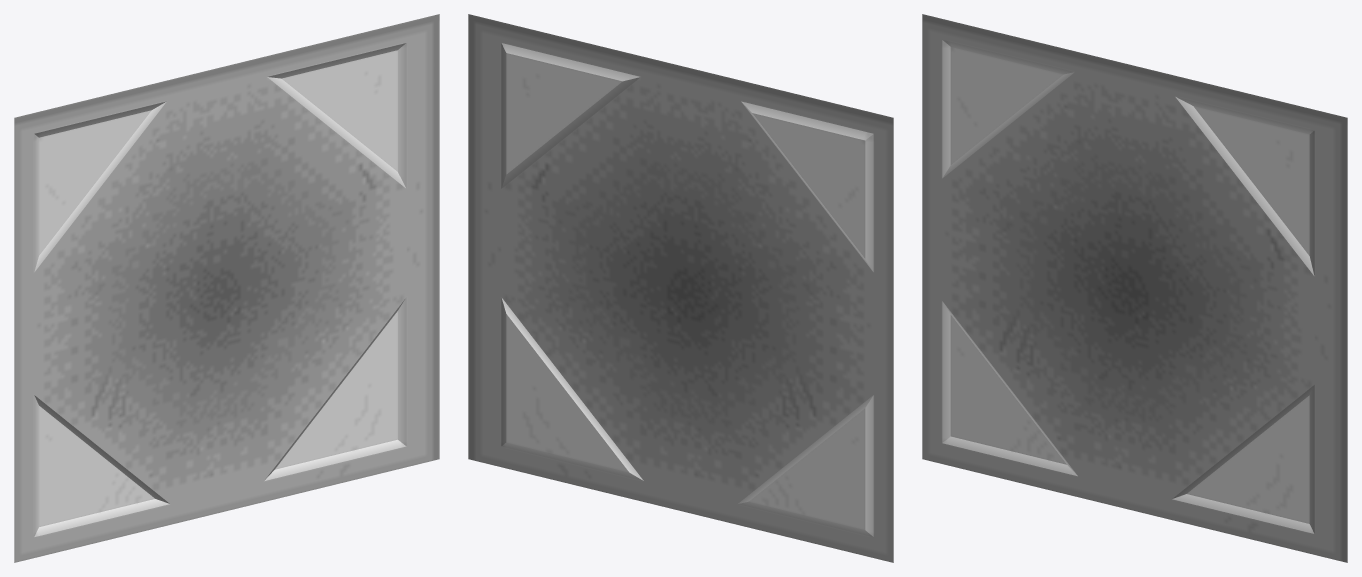
Rendered from flight2_3.fbx.
The picture shows the model from 3 angles, left to right: view 1: azimuth 30°, elevation 25°; view 2: azimuth 150°, elevation 25°; view 3: azimuth 330°, elevation 25°; orthographic projection.
Visible parts, largest first — view 1: flight2_3_mesh; view 2: flight2_3_mesh; view 3: flight2_3_mesh.
Boxes of the visible parts, x1,y1,x2,y2 form: flight2_3_mesh: (14,14,439,562); flight2_3_mesh: (468,14,893,562); flight2_3_mesh: (922,14,1347,562).
Bounding box in the file's own units: 256 × 256 × 2.
